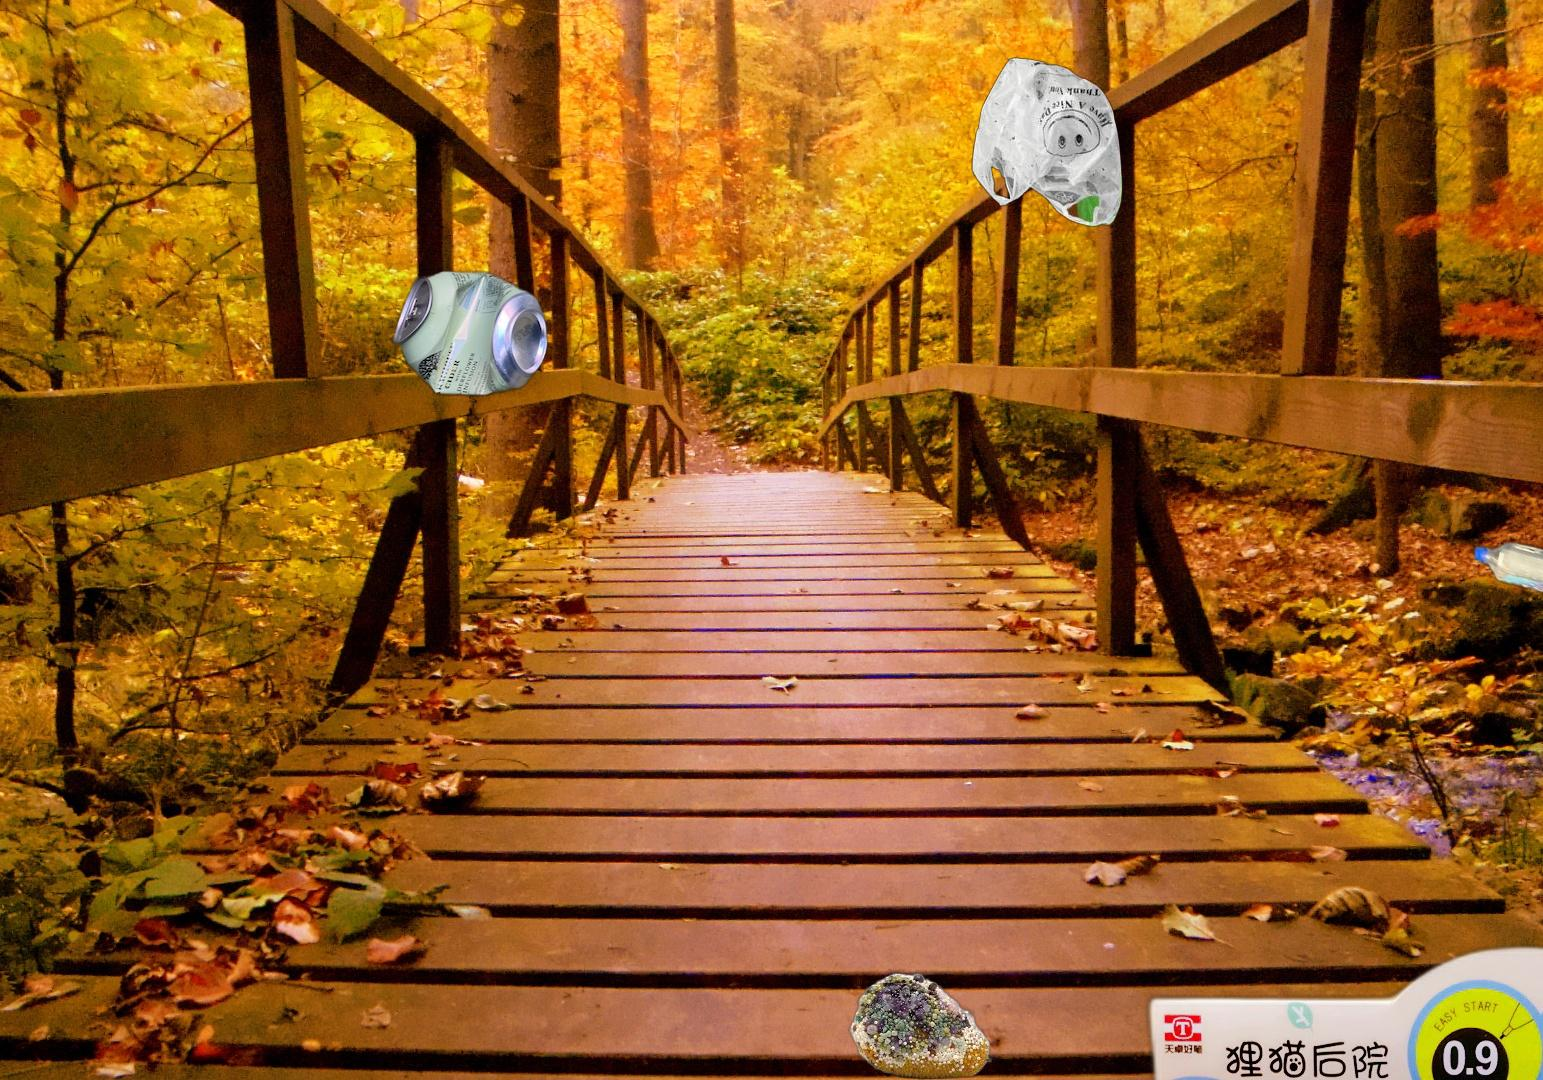biological: (847, 967, 995, 1080)
metal-cans: (389, 264, 553, 402)
penholder: (1081, 936, 1543, 1080)
plastic-bag: (968, 55, 1124, 229)
plastic-bottles: (1466, 536, 1543, 609)
